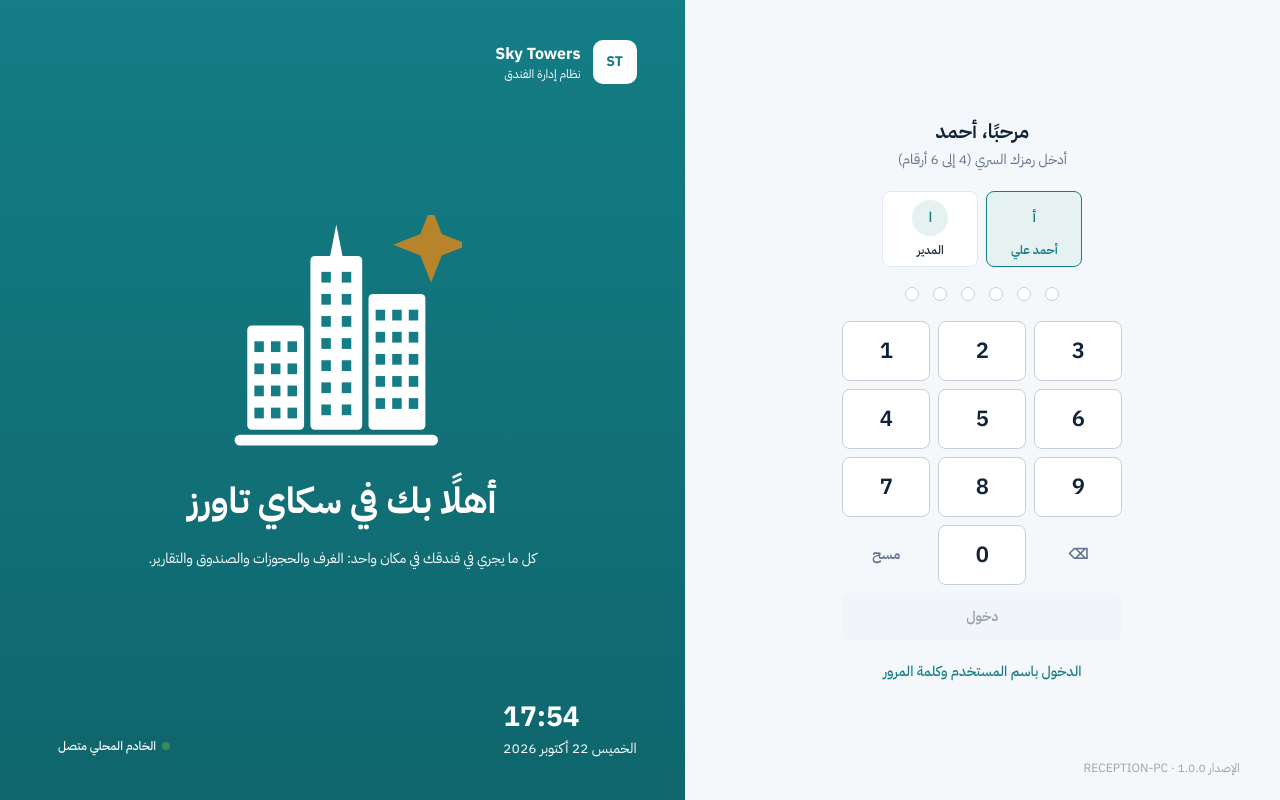
Test: wrong PIN says how many attempts are left and clears the dots
Expected: the heading "مرحبًا، أحمد" is shown, top-left (936, 117), bottom-right (1029, 145)
Click the button "9" at x=1078, y=487, box top-left (1034, 457), bottom-right (1122, 517)
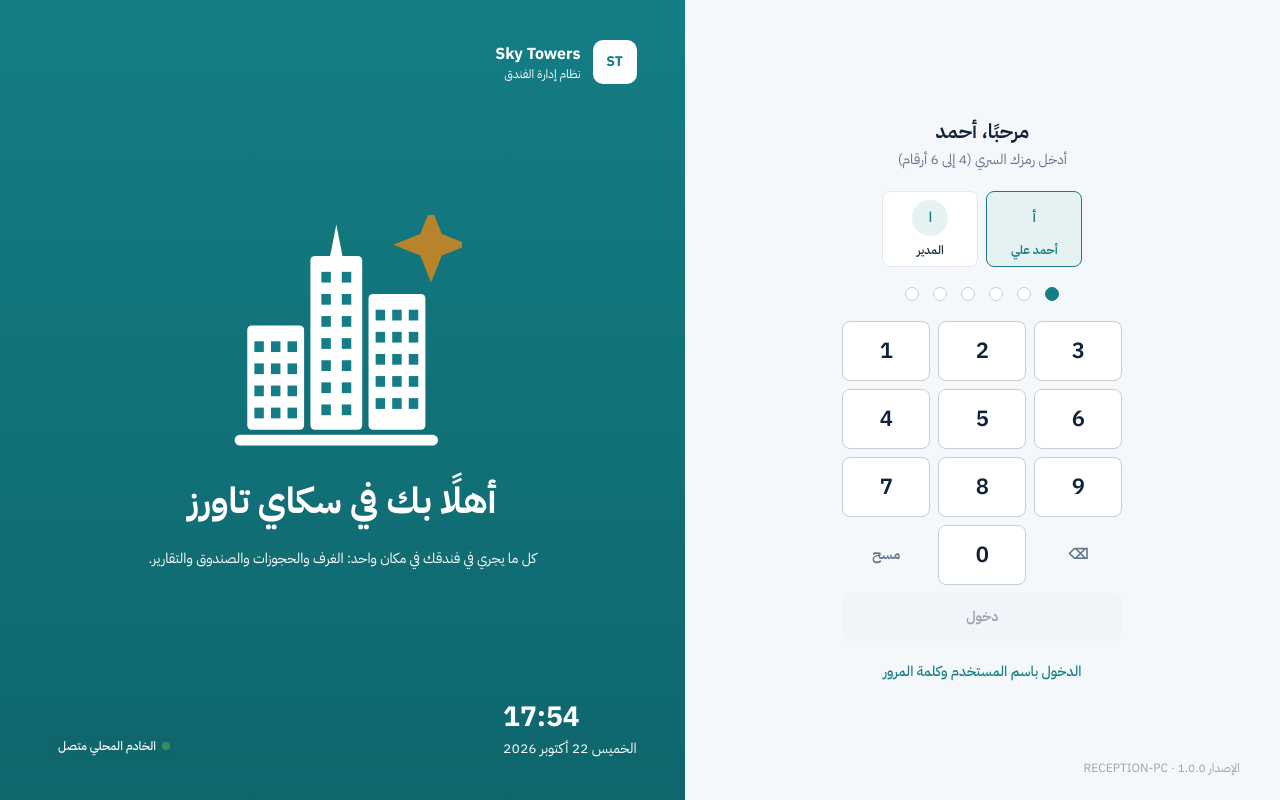
Click the button "9" at x=1078, y=487, box top-left (1034, 457), bottom-right (1122, 517)
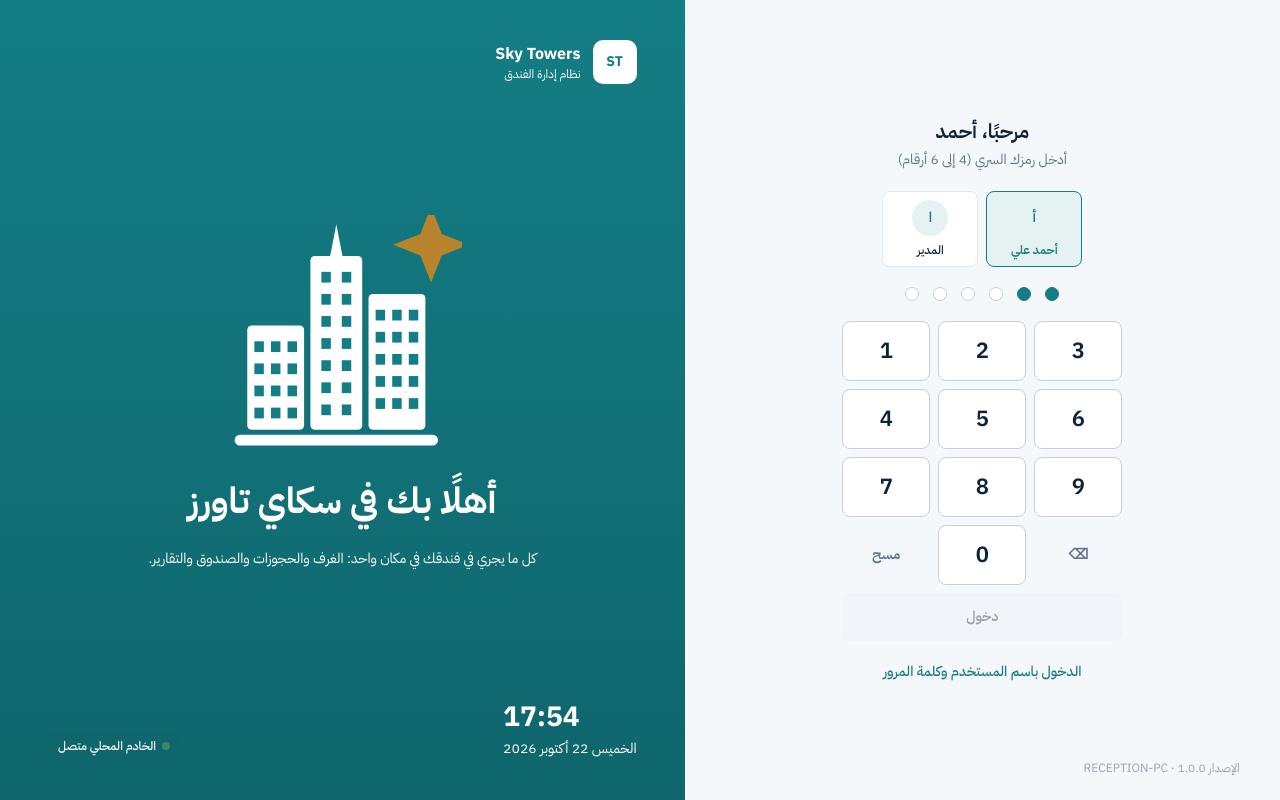
Click the button "9" at x=1078, y=487, box top-left (1034, 457), bottom-right (1122, 517)
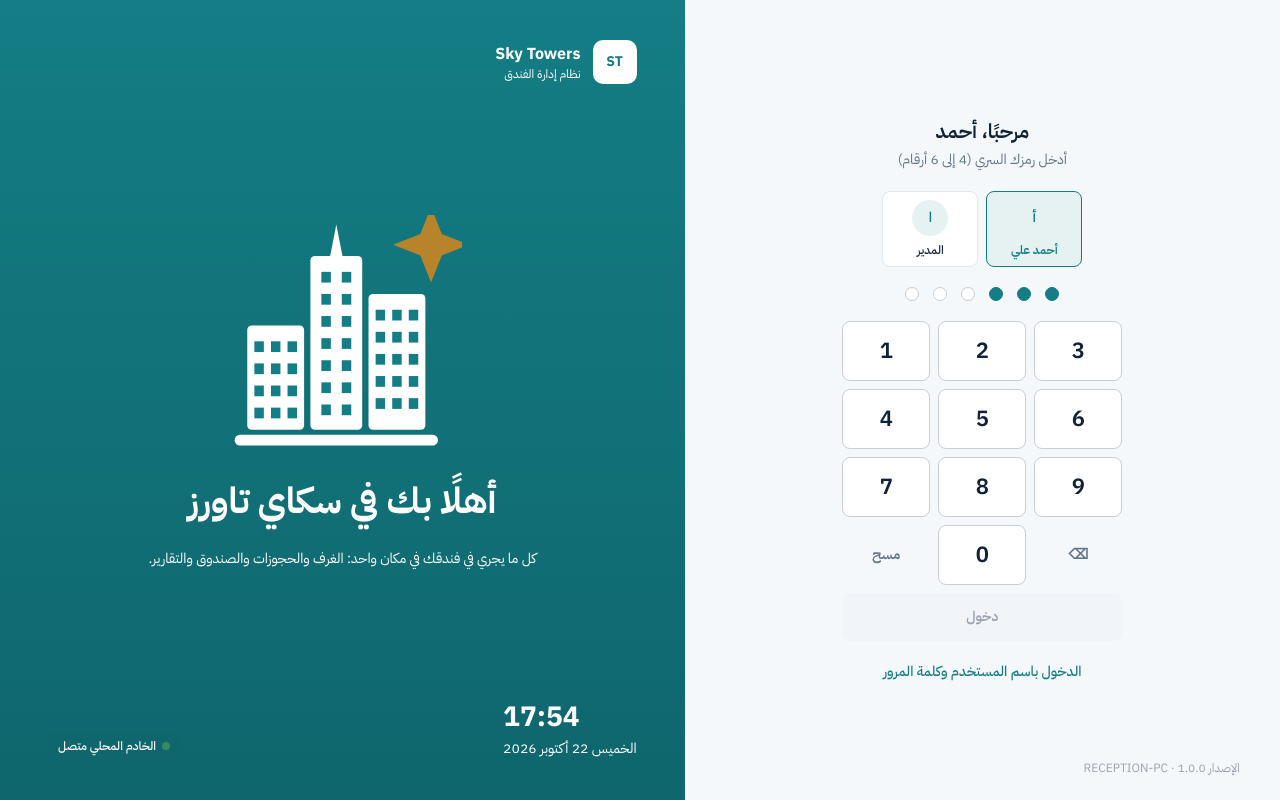
Click the button "9" at x=1078, y=487, box top-left (1034, 457), bottom-right (1122, 517)
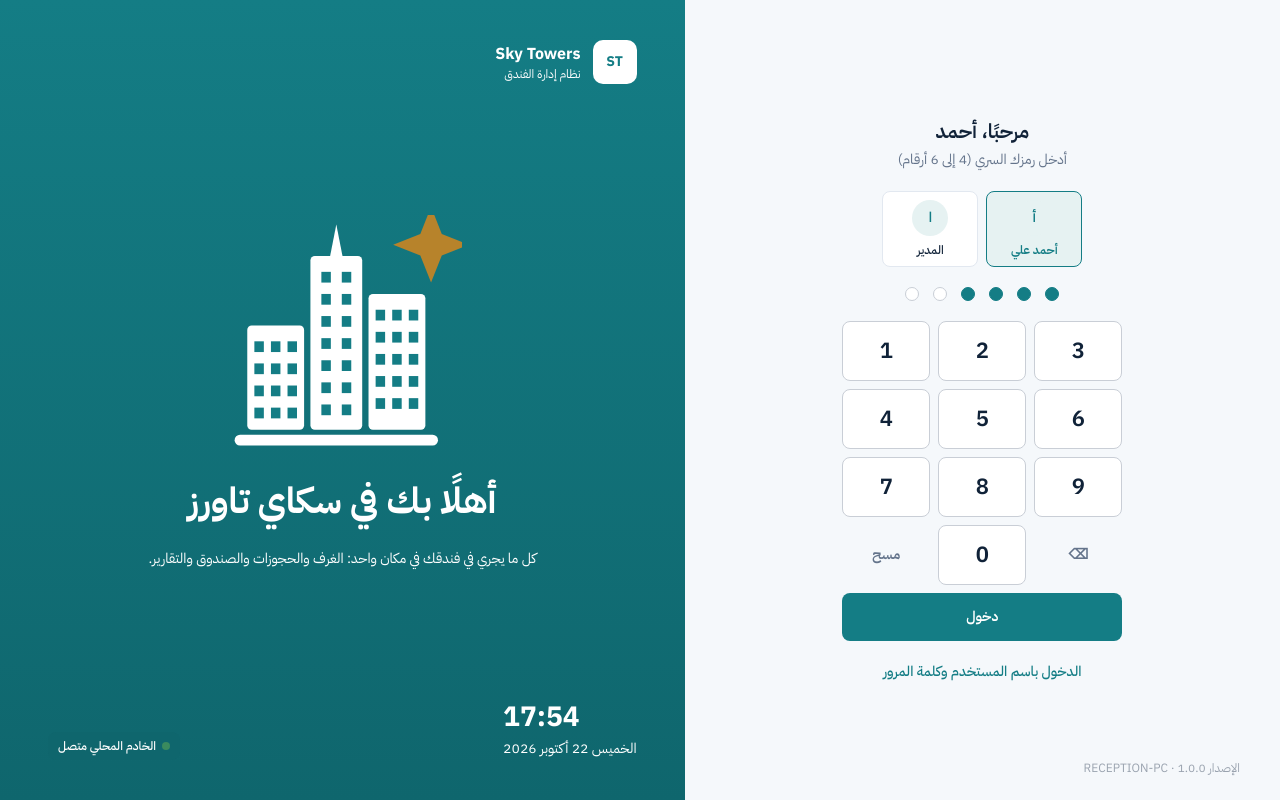
Click the button "9" at x=1078, y=487, box top-left (1034, 457), bottom-right (1122, 517)
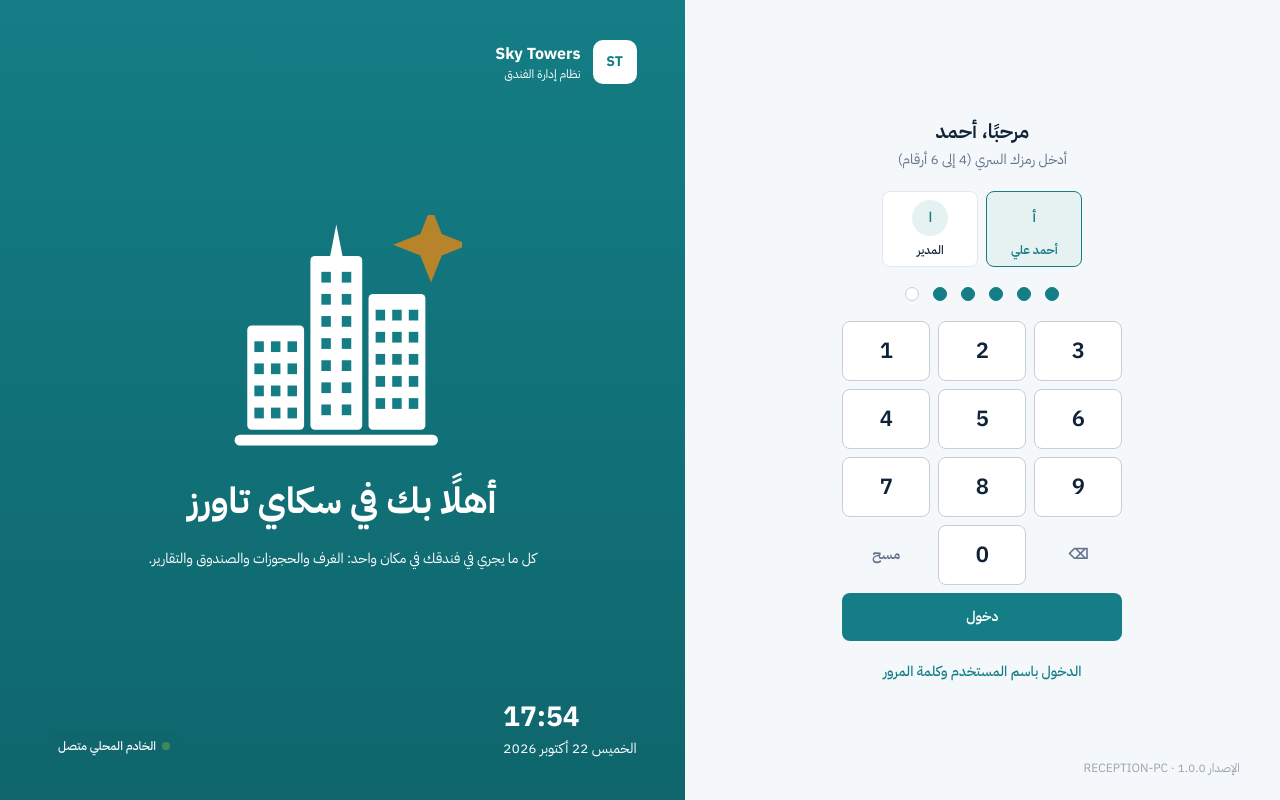
Click the button "9" at x=1078, y=487, box top-left (1034, 457), bottom-right (1122, 517)
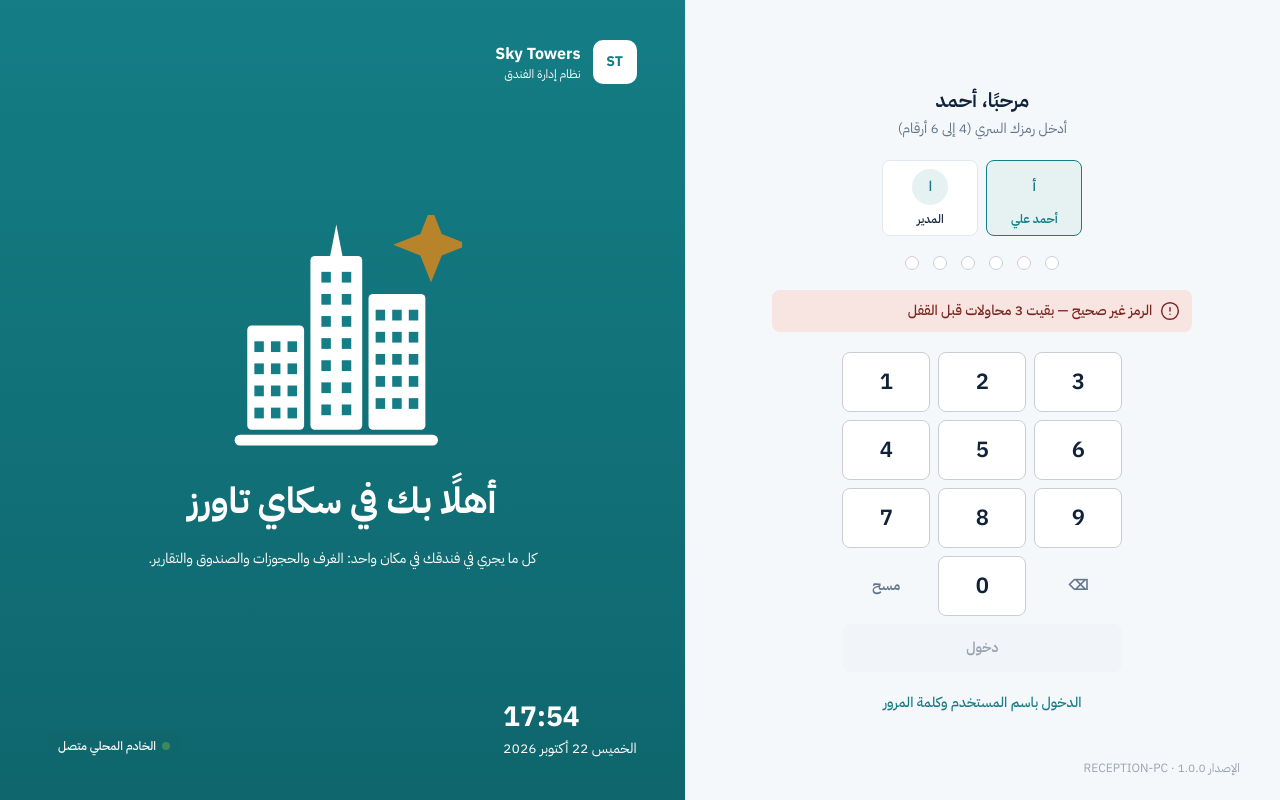
Expected: the message "الرمز غير صحيح — بقيت 3 محاولات قبل القفل" is shown, top-left (772, 290), bottom-right (1192, 332)
